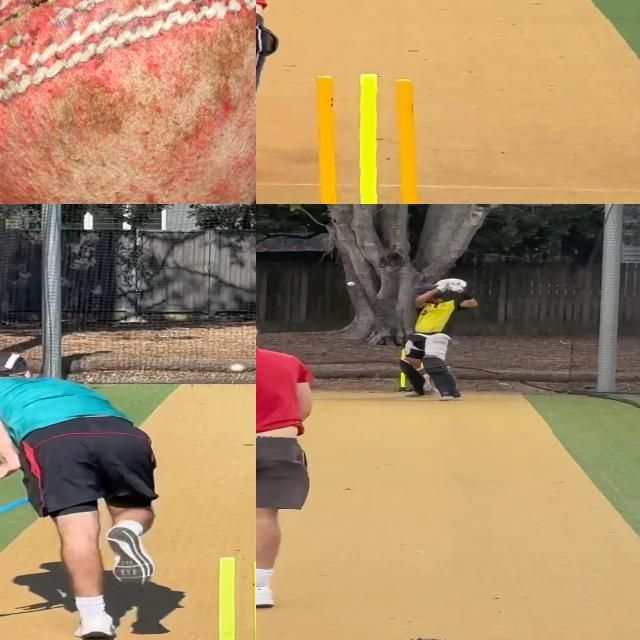Cricket ball: (0, 0, 256, 204), (224, 360, 250, 377), (345, 280, 357, 288)
Stumps: (299, 72, 433, 204), (200, 556, 256, 640)
